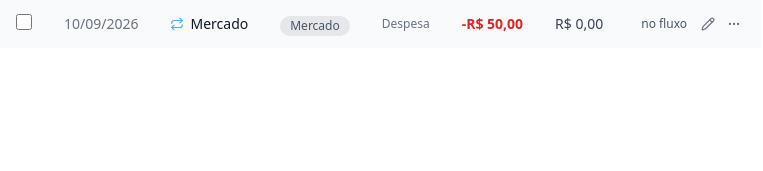
Test case: menu de ações da linha › Esc fecha o menu
Click the button named "Mais ações": (734, 24) [723,13,745,35]
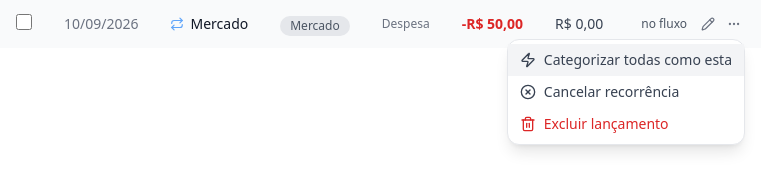
Press Escape in the menu, box [507,39,745,145]
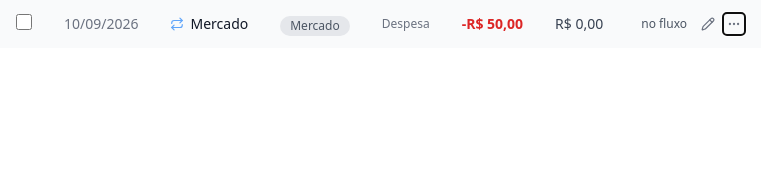
Expected: the menu is gone
